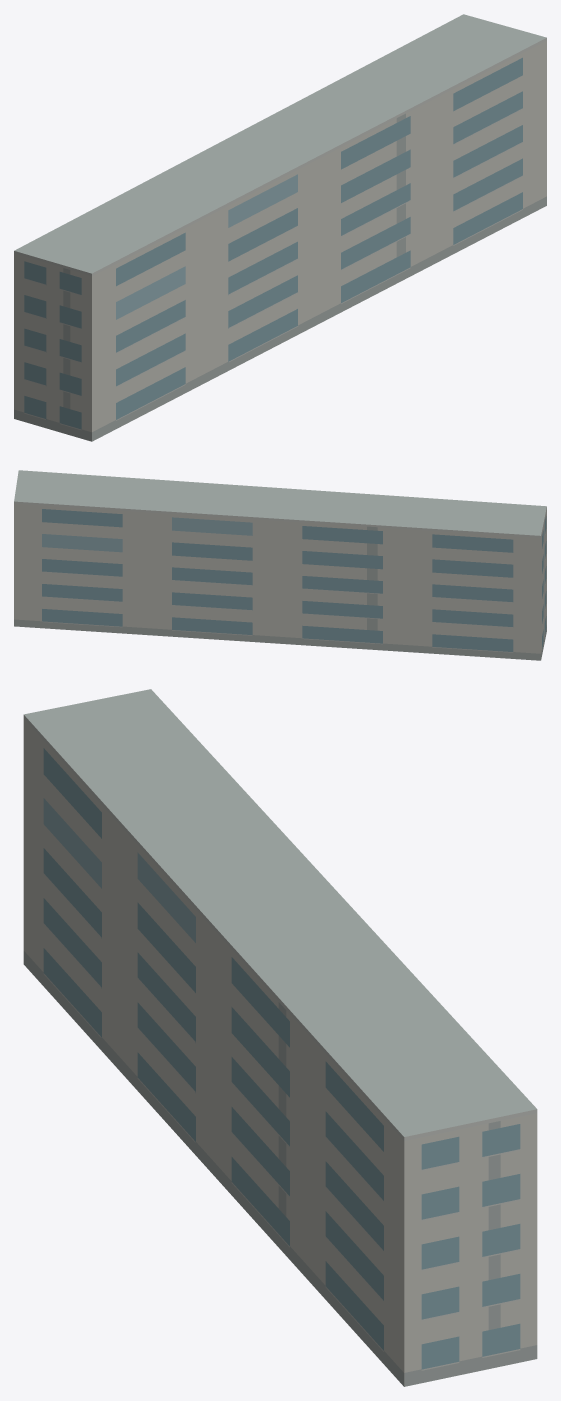
The model's file is survey-upis-32844724.glb.
3 views of the same model, one above another, from view 1: azimuth 30°, elevation 25°; view 2: azimuth 150°, elevation 25°; view 3: azimuth 270°, elevation 25° (orthographic). The views are drawn at different scales.
Visible parts, largest first — view 1: survey-upis-32844724.tmp; view 2: survey-upis-32844724.tmp; view 3: survey-upis-32844724.tmp.
Part boxes in pixels (x1=…): survey-upis-32844724.tmp: x1=14, y1=14, x2=546, y2=441; survey-upis-32844724.tmp: x1=14, y1=470, x2=546, y2=660; survey-upis-32844724.tmp: x1=23, y1=689, x2=537, y2=1386.
Bounding box in the file's own units: 58.68 × 15.25 × 28.44.
